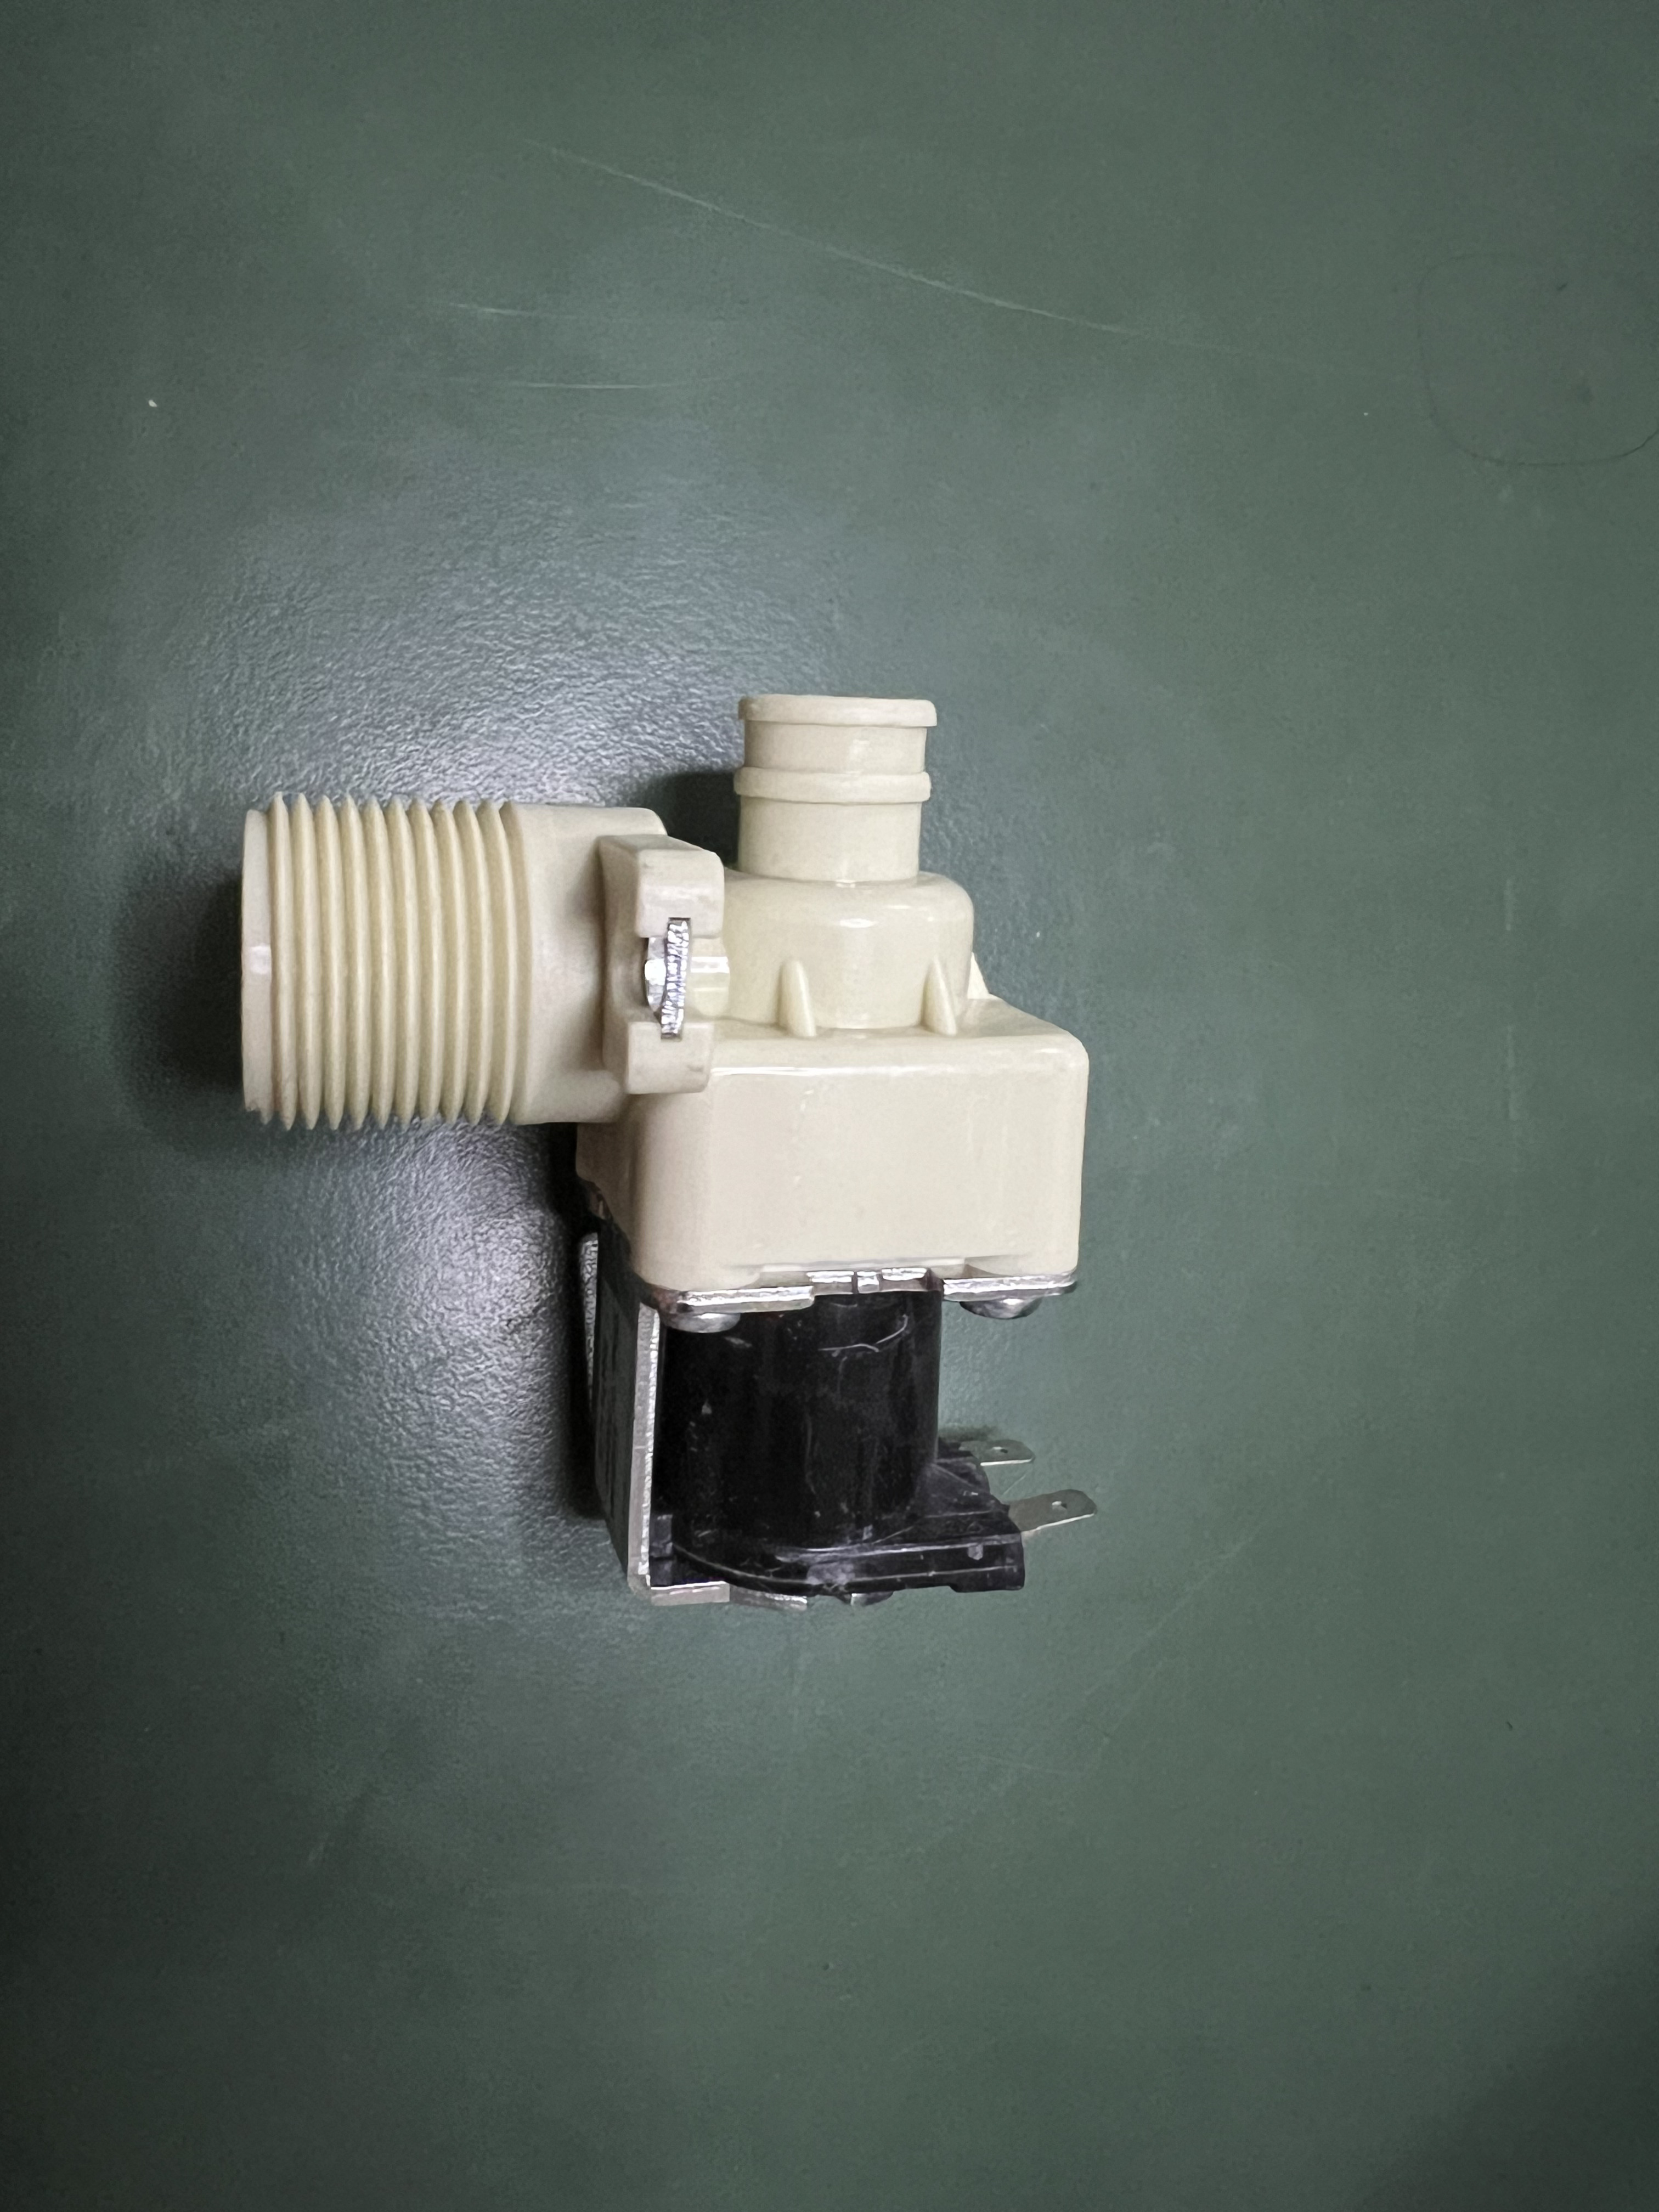godrej_inlet_valves: (157, 671, 1147, 1639)
